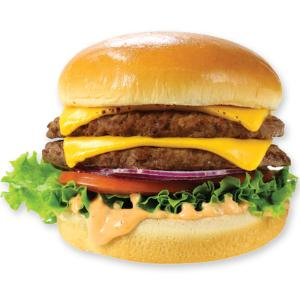cheeseburger: (3, 13, 300, 270)
